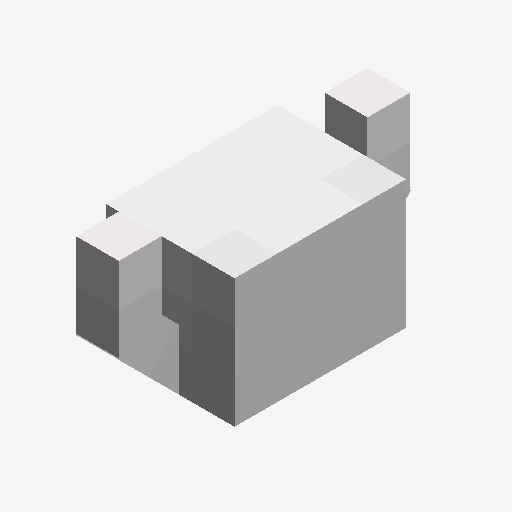
Isometric view (azimuth 45°, elevation 35.3°) of a Minecraft model made of 5 cuboids, textured from the same repository.
Parts seen in each view (by area): element 1, element 5, element 2, element 4.
Part boxes in pixels (x1,y1,x2,y2): element 1: (106, 105, 405, 426); element 5: (76, 212, 161, 358); element 2: (325, 68, 409, 193); element 4: (76, 307, 178, 393).
Size of the model in its own units: 6.83 by 3.4 by 3.